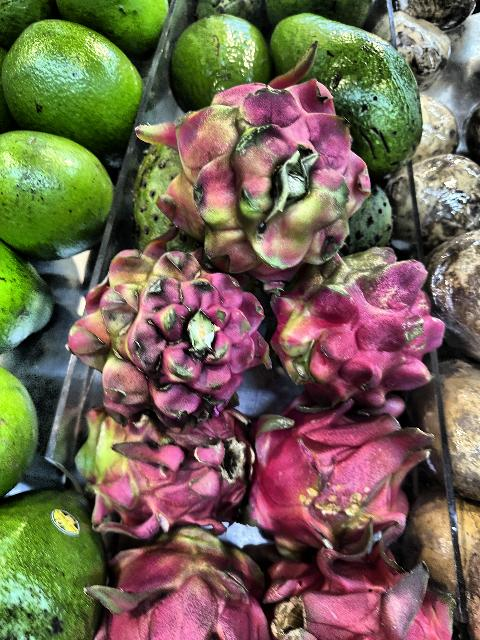buah-naga-belum-matang: (131, 70, 371, 262), (58, 232, 262, 418), (272, 247, 434, 421), (48, 396, 248, 526), (90, 516, 270, 640)
buah-naga-matang: (251, 392, 431, 554), (251, 538, 456, 640)
